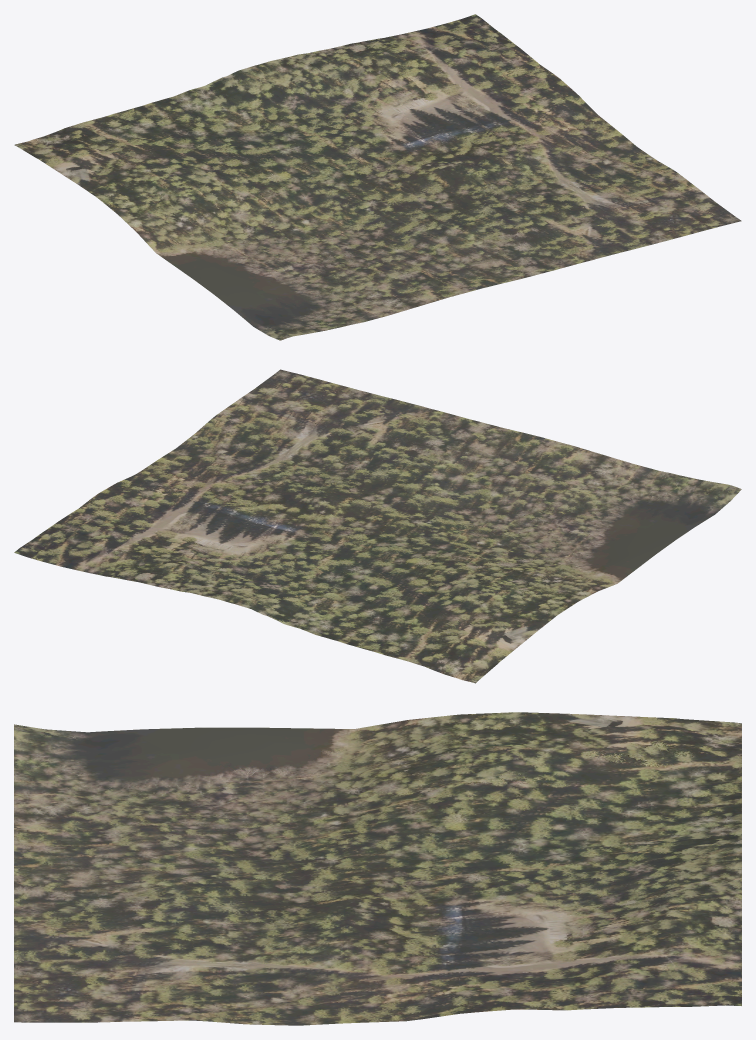
Rendered from CM_Terrain_24492711_6813855.fbx.
The picture shows the model from 3 angles, top to bottom: view 1: azimuth 30°, elevation 25°; view 2: azimuth 150°, elevation 25°; view 3: azimuth 270°, elevation 25°; orthographic projection. The views are drawn at different scales.
Parts seen in each view (by area): view 1: CM_Terrain_24492711_6813855_LOD0; view 2: CM_Terrain_24492711_6813855_LOD0; view 3: CM_Terrain_24492711_6813855_LOD0.
Part boxes in pixels (x1,y1,x2,y2): CM_Terrain_24492711_6813855_LOD0: (14, 14, 741, 340); CM_Terrain_24492711_6813855_LOD0: (14, 369, 741, 683); CM_Terrain_24492711_6813855_LOD0: (14, 712, 741, 1025).
Size of what is drawn, in the model's own units: 205 by 12.31 by 205.
